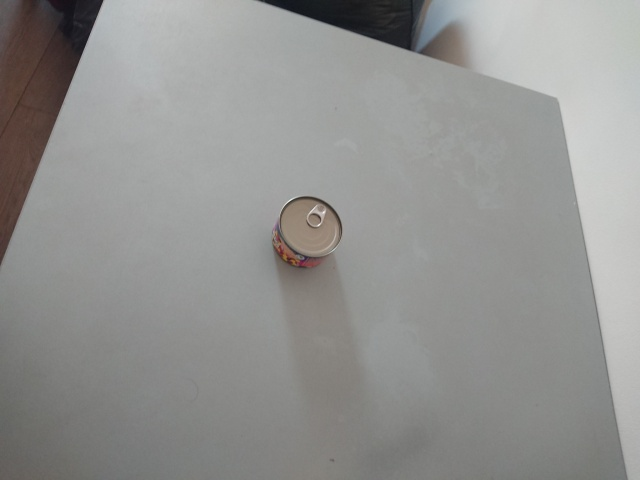Giana Tuna Salad Mexico 185g: (268, 194, 345, 271)
